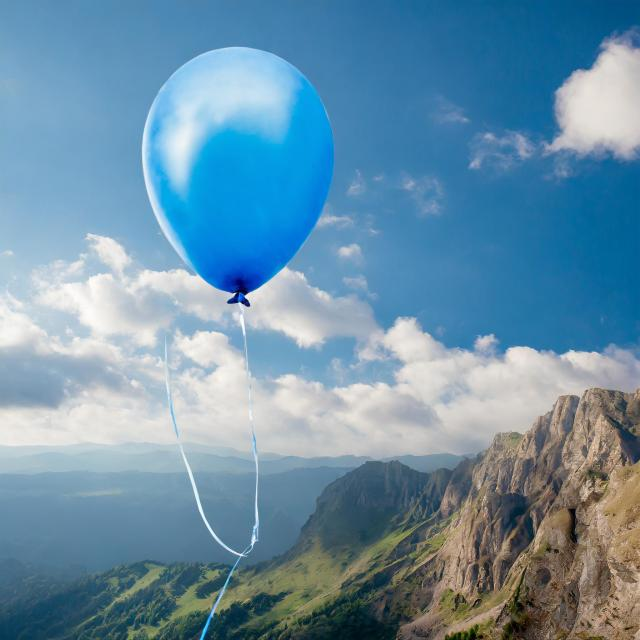blue: (146, 47, 335, 303)
